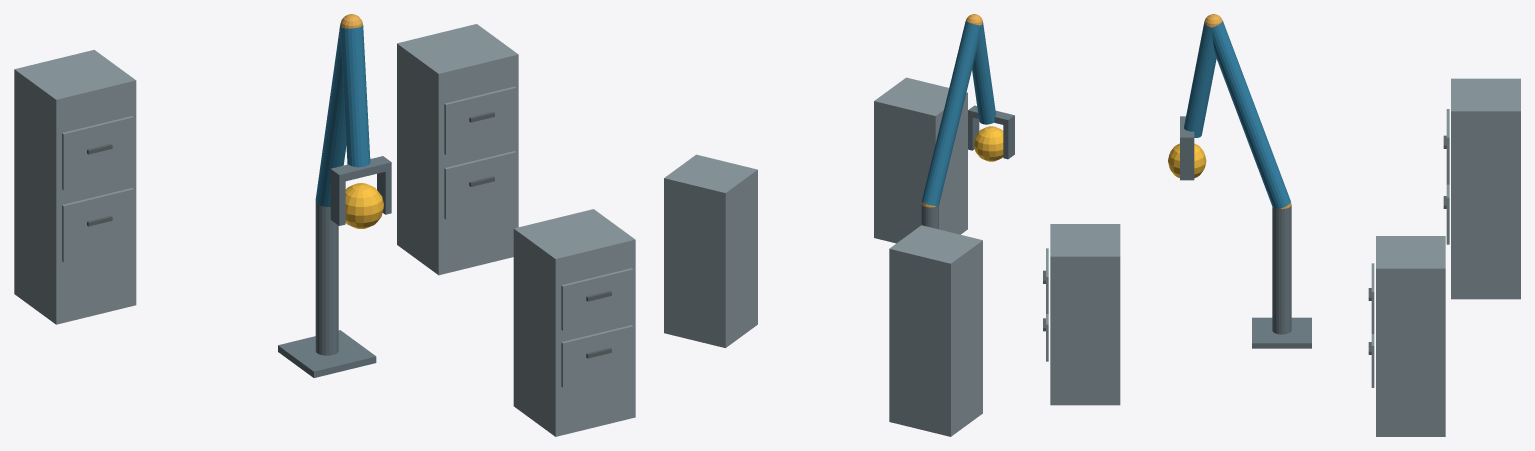
The picture shows the model from 3 angles, left to right: view 1: azimuth 30°, elevation 25°; view 2: azimuth 150°, elevation 25°; view 3: azimuth 270°, elevation 25°; orthographic projection. The views are drawn at different scales.
Parts seen in each view (by area): view 1: cabinet_3 body, cabinet_2 body, cabinet_1 body, cabinet_3 drawer front, cabinet_3 drawer front.001, cabinet_2 drawer front, cabinet_2 drawer front.001, fixed post, moving link 2, cabinet_1 drawer front, cabinet_1 drawer front.001, moving link 1 (+4 smaller); view 2: cabinet_3 body, cabinet_2 body, cabinet_1 body, moving link 1, moving link 2, ball ball_1, gripper finger -1, fixed post, gripper bridge; view 3: cabinet_3 body, cabinet_2 body, cabinet_1 body, moving link 1, fixed post, moving link 2, pedestal, ball ball_1, gripper finger 1.
Part boxes in pixels (x1=…): cabinet_3 body: x1=14, y1=49, x2=136, y2=324; cabinet_2 body: x1=397, y1=24, x2=518, y2=275; cabinet_1 body: x1=513, y1=209, x2=635, y2=436; cabinet_3 drawer front: x1=62, y1=188, x2=133, y2=262; cabinet_3 drawer front.001: x1=62, y1=116, x2=133, y2=190; cabinet_2 drawer front: x1=444, y1=151, x2=516, y2=219; cabinet_2 drawer front.001: x1=444, y1=86, x2=516, y2=155; fixed post: x1=315, y1=202, x2=338, y2=355; moving link 2: x1=340, y1=25, x2=370, y2=167; cabinet_1 drawer front: x1=561, y1=325, x2=633, y2=387; cabinet_1 drawer front.001: x1=561, y1=268, x2=633, y2=330; moving link 1: x1=315, y1=22, x2=346, y2=207; cabinet_3 body: x1=889, y1=225, x2=982, y2=436; cabinet_2 body: x1=664, y1=154, x2=757, y2=347; cabinet_1 body: x1=874, y1=77, x2=967, y2=243; moving link 1: x1=921, y1=21, x2=980, y2=206; moving link 2: x1=972, y1=21, x2=995, y2=124; ball ball_1: x1=974, y1=126, x2=1003, y2=161; gripper finger -1: x1=1003, y1=121, x2=1014, y2=159; fixed post: x1=921, y1=204, x2=938, y2=229; gripper bridge: x1=968, y1=105, x2=1014, y2=125; cabinet_3 body: x1=1451, y1=78, x2=1520, y2=299; cabinet_2 body: x1=1376, y1=236, x2=1445, y2=436; cabinet_1 body: x1=1050, y1=224, x2=1120, y2=405; moving link 1: x1=1211, y1=21, x2=1290, y2=209; fixed post: x1=1272, y1=205, x2=1291, y2=334; moving link 2: x1=1184, y1=21, x2=1216, y2=137; pedestal: x1=1252, y1=317, x2=1311, y2=348; ball ball_1: x1=1168, y1=143, x2=1206, y2=178; gripper finger 1: x1=1180, y1=144, x2=1194, y2=180.
Size of the model in its own units: 1.67 by 1.44 by 1.98.
